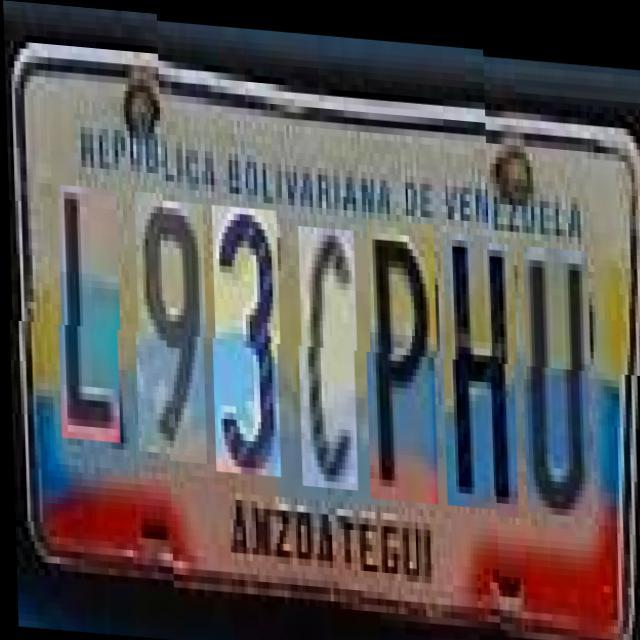3: (210, 201, 282, 472)
9: (134, 195, 208, 460)
C: (296, 220, 358, 484)
H: (442, 224, 518, 502)
L: (57, 190, 121, 448)
P: (364, 212, 438, 496)
U: (521, 230, 592, 500)
